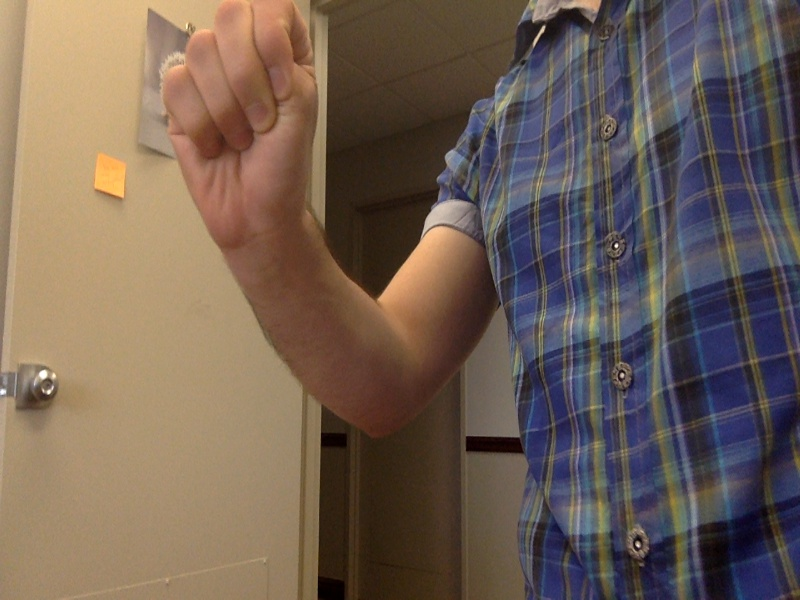0-hand: (157, 2, 320, 237)
